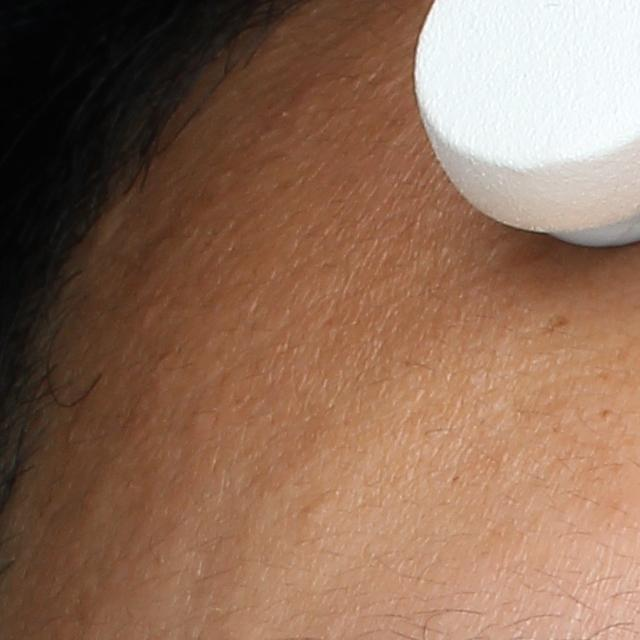comedo: (293, 494, 330, 523)
